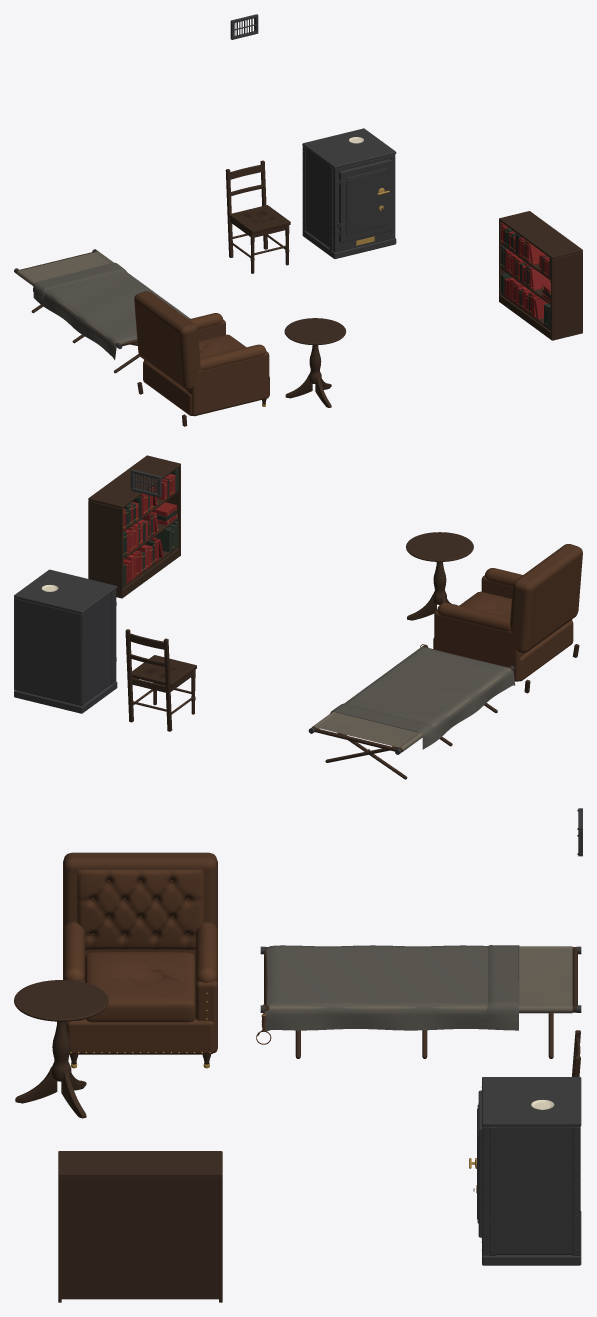
The model's file is roylott.glb.
The picture shows the model from 3 angles, top to bottom: view 1: azimuth 30°, elevation 25°; view 2: azimuth 150°, elevation 25°; view 3: azimuth 270°, elevation 25°; orthographic projection. The views are drawn at different scales.
Parts seen in each view (by area): view 1: body, blanket, carcase, arms, back_shell, door_slab, books_red, chair_frame, bed_canvas, table_top, base, books_green (+4 smaller); view 2: body, blanket, carcase, back_shell, arms, books_red, chair_frame, bed_canvas, table_top, books_green, base, bed_frame (+4 smaller); view 3: carcase, blanket, body, back_tufting, seat_cushion, base, back_shell, bed_canvas, arms, table_top, pedestal, bed_frame (+1 smaller).
Boxes of the visible parts, x1=… form: body: x1=302, y1=128, x2=396, y2=258; blanket: x1=33, y1=262, x2=189, y2=359; carcase: x1=499, y1=211, x2=582, y2=340; arms: x1=144, y1=313, x2=269, y2=416; back_shell: x1=134, y1=291, x2=200, y2=390; door_slab: x1=337, y1=159, x2=391, y2=242; books_red: x1=501, y1=223, x2=550, y2=319; chair_frame: x1=225, y1=160, x2=289, y2=273; bed_canvas: x1=16, y1=251, x2=190, y2=344; table_top: x1=284, y1=318, x2=346, y2=345; base: x1=143, y1=360, x2=269, y2=415; books_green: x1=501, y1=228, x2=550, y2=329; body: x1=14, y1=569, x2=117, y2=713; blanket: x1=330, y1=647, x2=515, y2=749; carcase: x1=88, y1=455, x2=180, y2=598; back_shell: x1=510, y1=544, x2=582, y2=653; arms: x1=434, y1=568, x2=572, y2=681; books_red: x1=123, y1=474, x2=177, y2=583; chair_frame: x1=125, y1=629, x2=195, y2=731; bed_canvas: x1=312, y1=646, x2=511, y2=752; table_top: x1=406, y1=532, x2=473, y2=561; books_green: x1=123, y1=468, x2=178, y2=585; base: x1=433, y1=620, x2=573, y2=681; bed_frame: x1=312, y1=646, x2=512, y2=779; carcase: x1=58, y1=1151, x2=222, y2=1302; blanket: x1=264, y1=945, x2=519, y2=1031; body: x1=482, y1=1077, x2=581, y2=1265; back_tufting: x1=77, y1=869, x2=203, y2=949; seat_cushion: x1=85, y1=952, x2=195, y2=1022; base: x1=66, y1=1017, x2=214, y2=1054; back_shell: x1=63, y1=852, x2=217, y2=958; bed_canvas: x1=269, y1=946, x2=572, y2=1013; arms: x1=63, y1=922, x2=217, y2=1052; table_top: x1=14, y1=980, x2=108, y2=1021; pedestal: x1=15, y1=1021, x2=86, y2=1118; bed_frame: x1=264, y1=947, x2=577, y2=1058.
Size of the model in its own units: 4.52 by 2.5 by 3.6.
